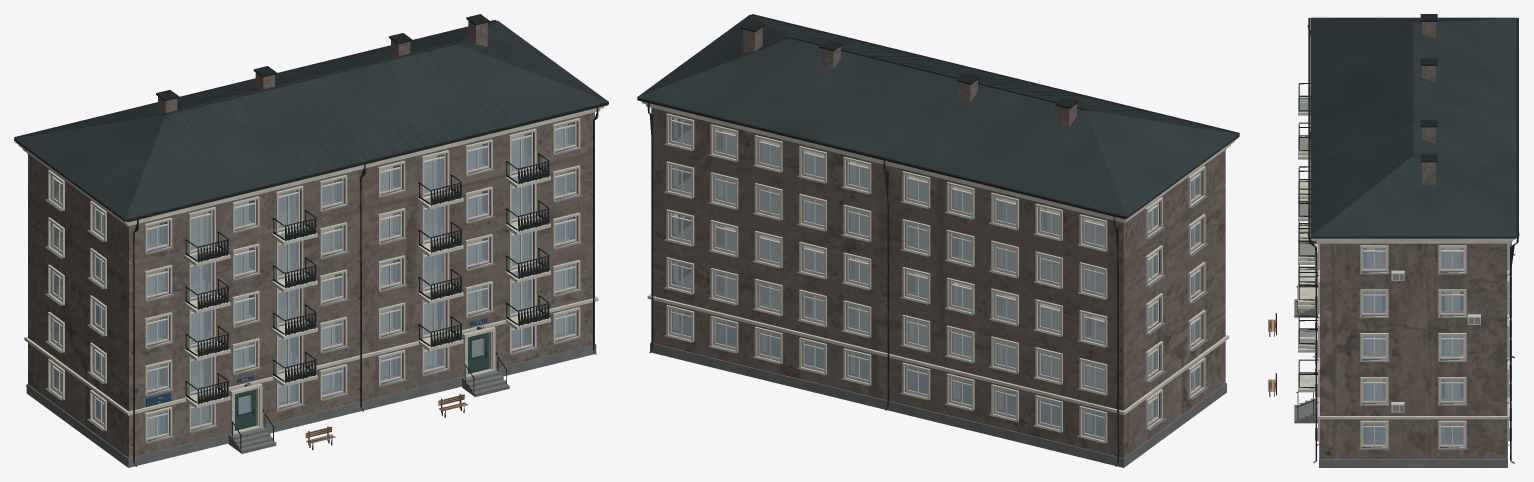
File: apartment.glb
The picture shows the model from 3 angles, left to right: view 1: azimuth 30°, elevation 25°; view 2: azimuth 150°, elevation 25°; view 3: azimuth 270°, elevation 25°; orthographic projection. The views are drawn at different scales.
Parts seen in each view (by area): view 1: part0, part8, part2, part22, part5, part4, part1, part3, part23, part17, part16, part18 (+6 smaller); view 2: part0, part8, part2, part22, part1, part4, part3, part23, part5, part15, part13, part14 (+2 smaller); view 3: part8, part0, part2, part5, part1, part3, part22, part4, part23, part11, part20, part13 (+1 smaller).
Boxes of the visible parts, x1,y1,x2,y2 form: part0: (28, 21, 594, 457); part8: (14, 20, 608, 221); part2: (15, 106, 604, 442); part22: (53, 126, 574, 437); part5: (14, 14, 608, 466); part4: (52, 121, 576, 439); part1: (26, 147, 596, 467); part3: (57, 143, 569, 390); part23: (53, 258, 574, 423); part17: (191, 133, 573, 409); part16: (147, 171, 573, 433); part18: (147, 122, 573, 377); part0: (651, 27, 1225, 457); part8: (637, 15, 1239, 218); part2: (642, 101, 1238, 442); part22: (671, 169, 1199, 437); part1: (650, 143, 1226, 467); part4: (669, 117, 1201, 439); part3: (675, 128, 1153, 388); part23: (671, 122, 1199, 391); part5: (637, 14, 1239, 466); part15: (682, 128, 1193, 420); part13: (674, 161, 1193, 399); part14: (673, 139, 1192, 431); part8: (1310, 17, 1516, 238); part0: (1320, 22, 1507, 458); part2: (1298, 97, 1515, 447); part5: (1269, 14, 1519, 463); part1: (1294, 241, 1511, 467); part3: (1299, 98, 1463, 399); part22: (1363, 248, 1463, 444); part4: (1362, 248, 1464, 446); part23: (1363, 296, 1463, 444); part11: (1363, 248, 1463, 442); part20: (1391, 270, 1480, 412); part13: (1382, 248, 1463, 442).
Bounding box in the file's own units: 33.2 × 20.1 × 16.09.
Materials: 24 (8 with a texture image).
